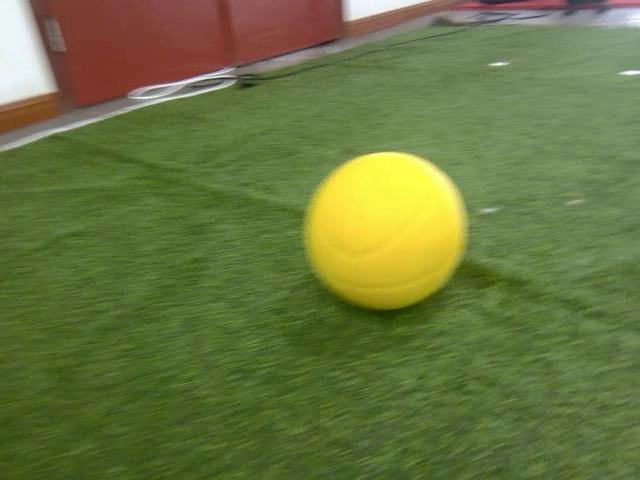yellow_ball: (303, 151, 468, 310)
